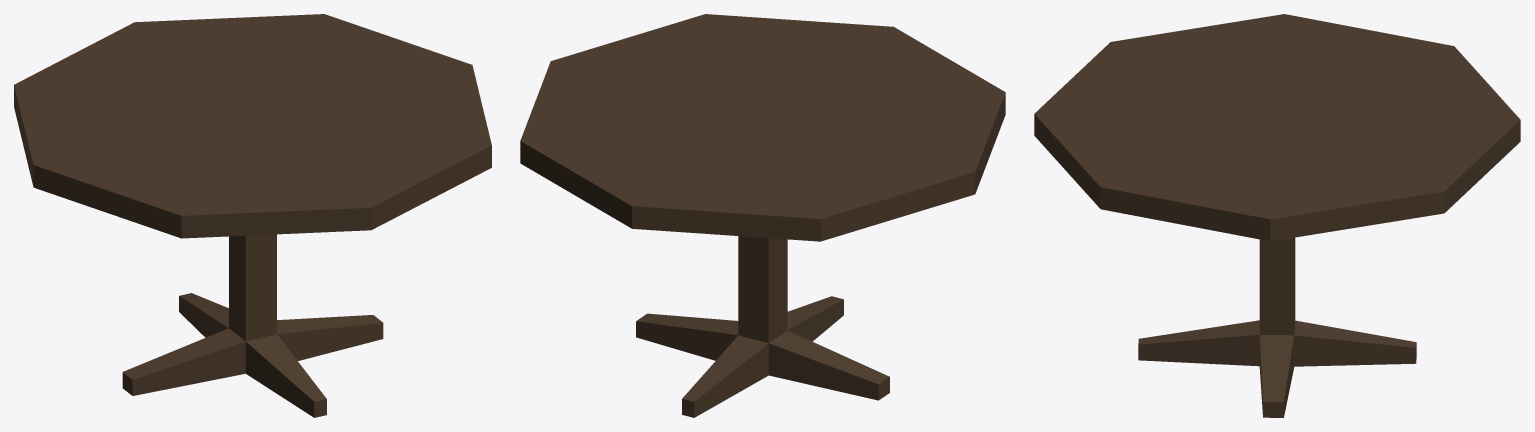
Rendered from apocalypse-table-round-wooden.glb.
The picture shows the model from 3 angles, left to right: view 1: azimuth 30°, elevation 25°; view 2: azimuth 150°, elevation 25°; view 3: azimuth 270°, elevation 25°; orthographic projection. The views are drawn at different scales.
Visible parts, largest first — view 1: table-round-wooden; view 2: table-round-wooden; view 3: table-round-wooden.
Boxes of the visible parts, box(x1,y1,x2,y2) form: table-round-wooden: box(14, 14, 491, 417); table-round-wooden: box(520, 14, 1005, 417); table-round-wooden: box(1034, 14, 1520, 417).
Size of the model in its own units: 1.4 by 0.77 by 1.4.
